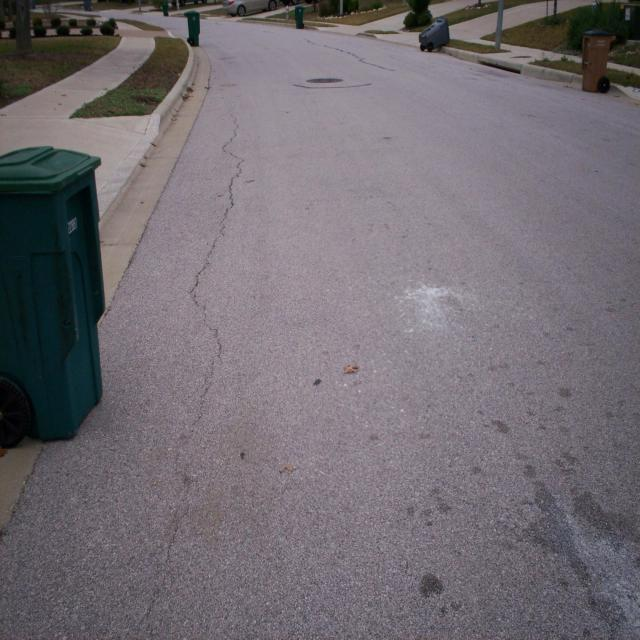Pothole: (47, 104, 372, 640)
